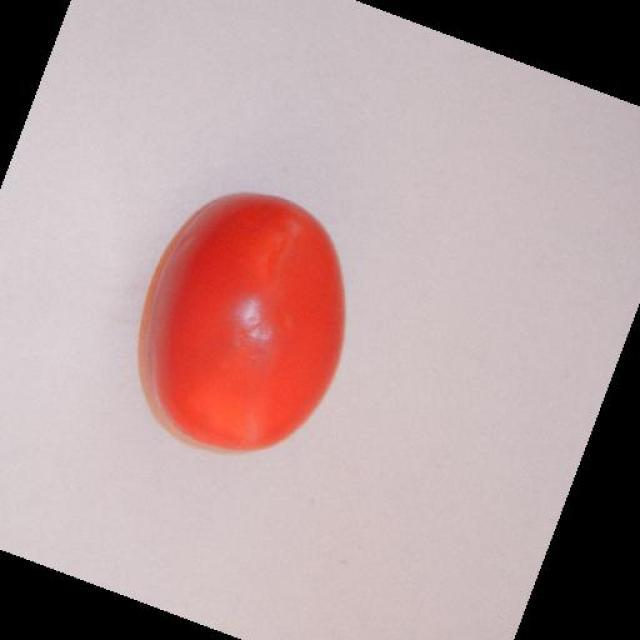Fresh Tomato: (130, 175, 371, 476)
